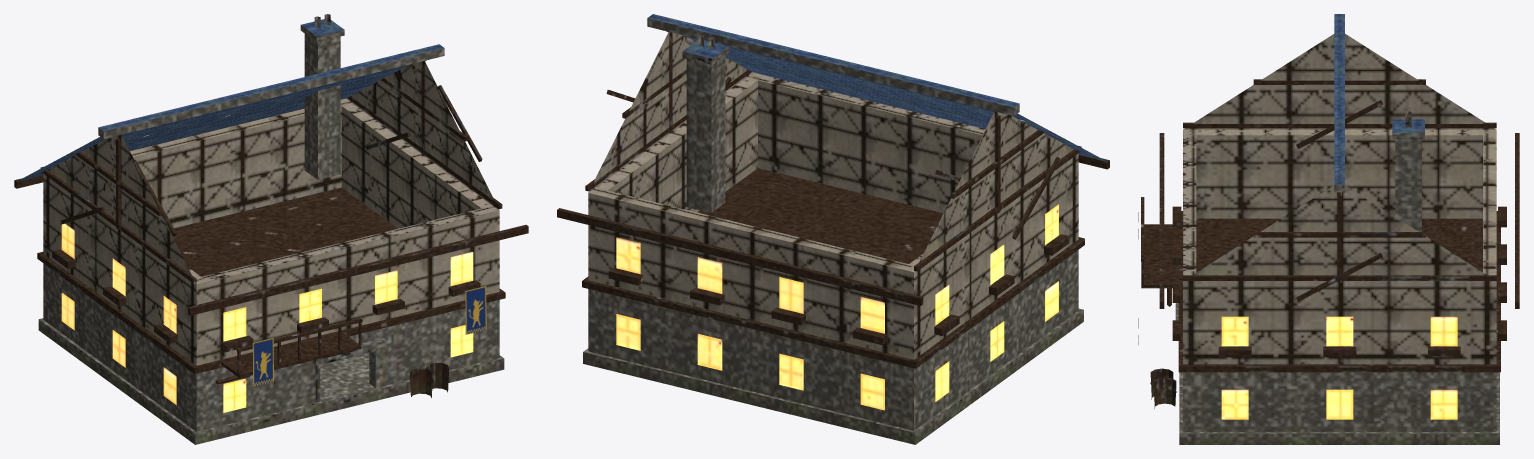
The model's file is bld_apothecary_card_lod2.glb.
3 renders of one model, left to right at view 1: azimuth 30°, elevation 25°; view 2: azimuth 150°, elevation 25°; view 3: azimuth 270°, elevation 25°, orthographic. The views are drawn at different scales.
Visible parts, largest first — view 1: apothecary_card; view 2: apothecary_card; view 3: apothecary_card.
Boxes of the visible parts, x1=… form: apothecary_card: x1=14, y1=14, x2=528, y2=444; apothecary_card: x1=557, y1=14, x2=1109, y2=444; apothecary_card: x1=1138, y1=14, x2=1519, y2=444.
Bounding box in the file's own units: 25.56 × 18.52 × 21.73.
1 material, 1 textured.
